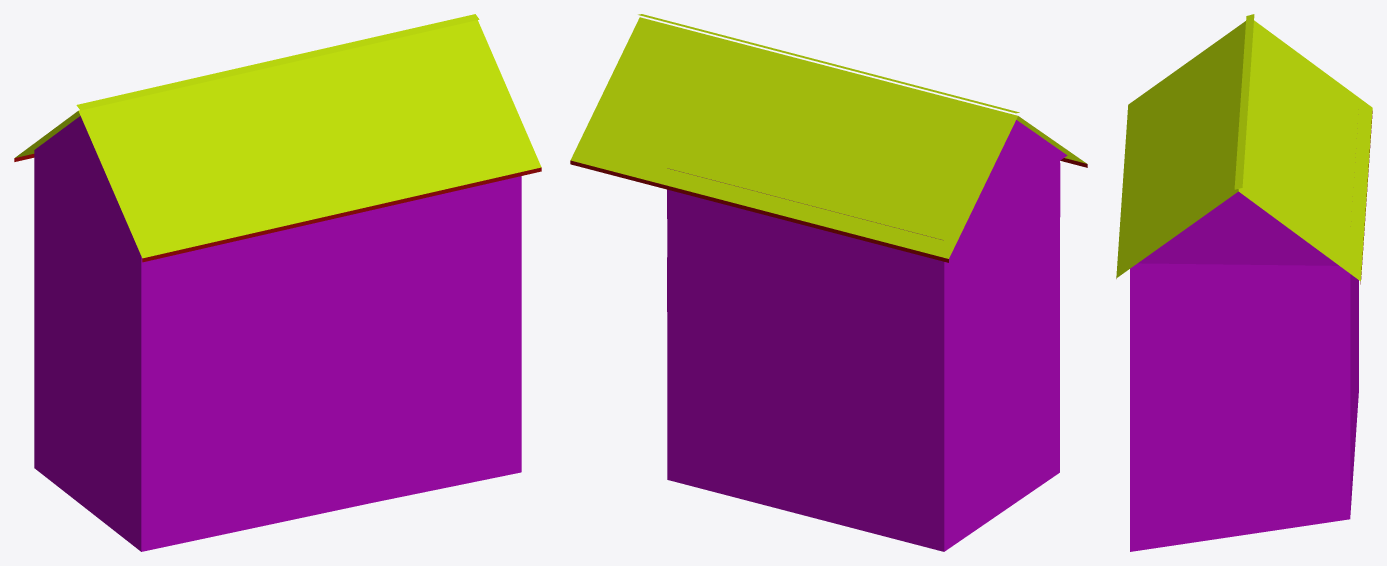
File: bgj_273.glb
The picture shows the model from 3 angles, left to right: view 1: azimuth 30°, elevation 25°; view 2: azimuth 150°, elevation 25°; view 3: azimuth 270°, elevation 25°; orthographic projection. The views are drawn at different scales.
Parts seen in each view (by area): view 1: bgj_273; view 2: bgj_273; view 3: bgj_273.
Boxes of the visible parts, x1=… form: bgj_273: x1=14, y1=14, x2=541, y2=551; bgj_273: x1=570, y1=14, x2=1087, y2=551; bgj_273: x1=1116, y1=14, x2=1372, y2=551.
Size of the model in its own units: 12.5 by 12.23 by 7.66.
